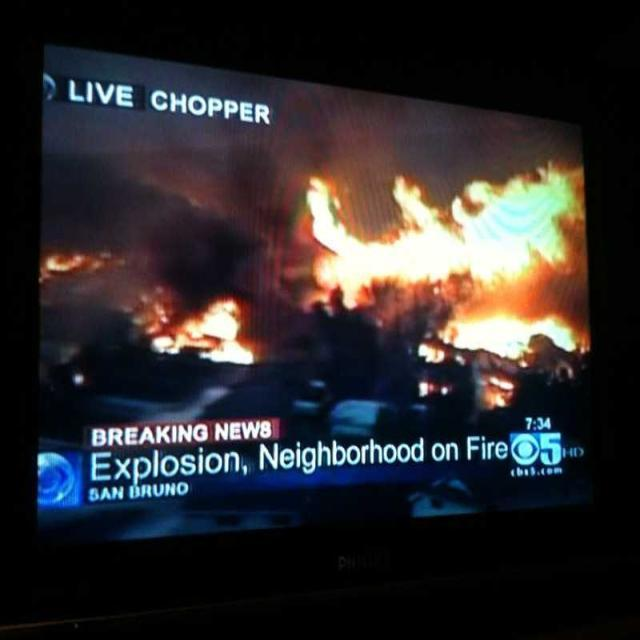Fire: (308, 158, 582, 353)
